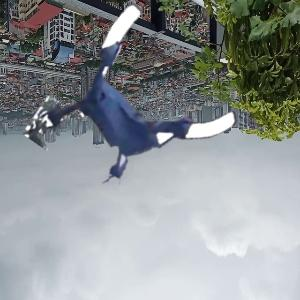drone: (56, 25, 230, 199)
